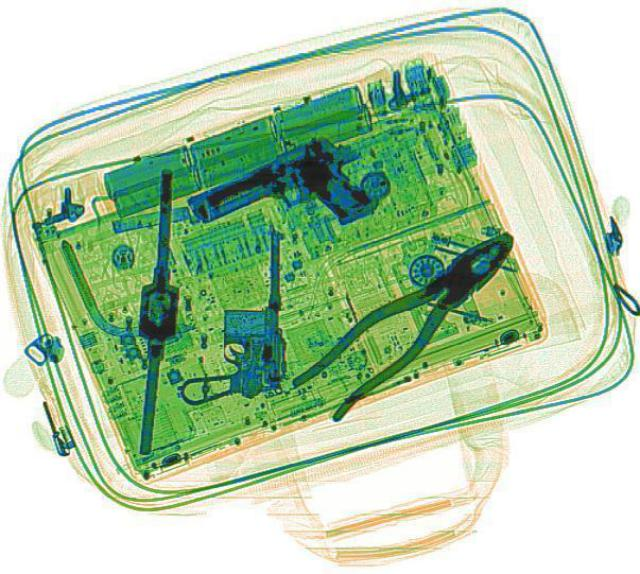Gun: (182, 122, 396, 275), (179, 227, 291, 403)
Pliers: (284, 212, 536, 420)
